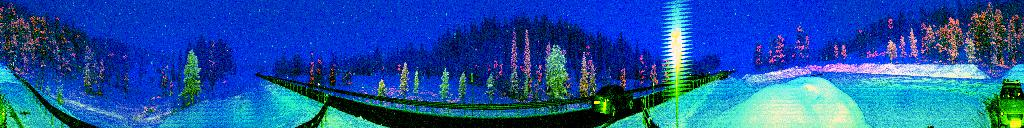pole: (652, 75, 656, 91), (318, 83, 321, 87)
